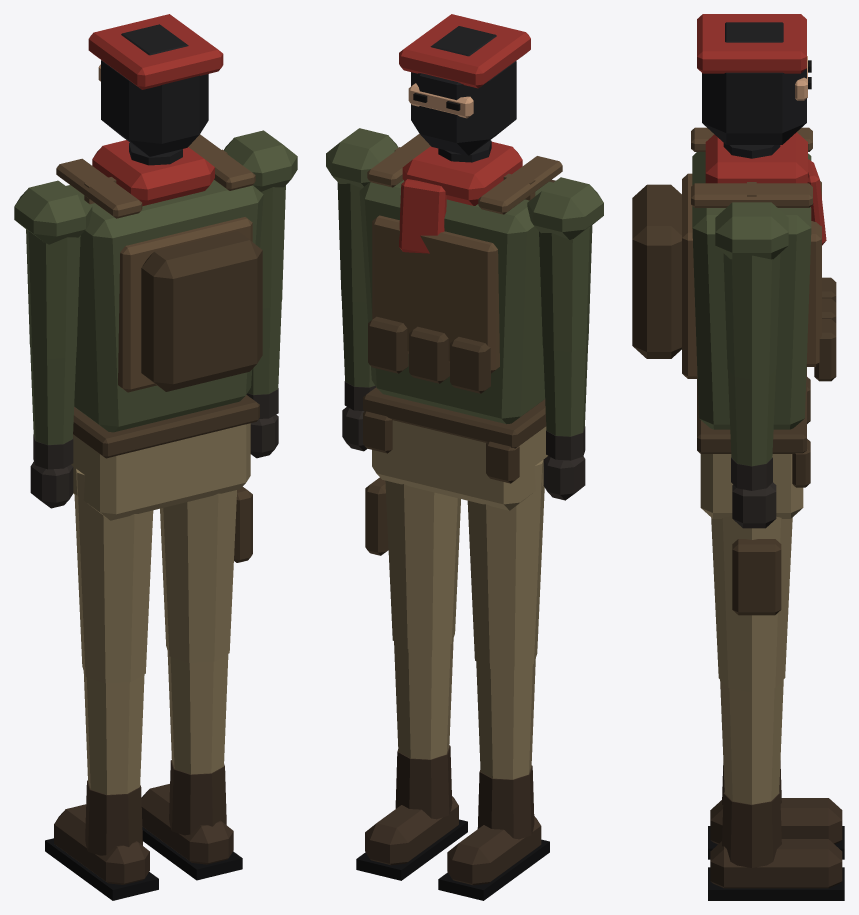
File: fighter_t.glb
The picture shows the model from 3 angles, left to right: view 1: azimuth 30°, elevation 25°; view 2: azimuth 150°, elevation 25°; view 3: azimuth 270°, elevation 25°; orthographic projection. The views are drawn at different scales.
Parts seen in each view (by area): view 1: Torso, Hips, ShinL, ShinR, Head, LegR, LegL, ArmL, ForeL, ArmR, ForeR; view 2: Torso, Hips, ShinL, ShinR, Head, LegR, LegL, ArmL, ForeL, ArmR, ForeR; view 3: Torso, ShinR, Head, LegR, ArmR, ForeR, Hips, ShinL.
Boxes of the visible parts, <box> form: Torso: <box>56,134,263,432</box>; Hips: <box>71,395,259,520</box>; ShinL: <box>45,671,158,900</box>; ShinR: <box>141,651,242,880</box>; Head: <box>88,14,223,156</box>; LegR: <box>160,486,252,662</box>; LegL: <box>74,469,153,683</box>; ArmL: <box>14,180,92,358</box>; ForeL: <box>30,348,76,508</box>; ArmR: <box>224,130,297,308</box>; ForeR: <box>246,302,281,458</box>; Torso: <box>359,134,562,424</box>; Hips: <box>363,387,547,510</box>; ShinL: <box>438,659,549,900</box>; ShinR: <box>356,639,467,880</box>; Head: <box>399,14,530,155</box>; LegR: <box>365,477,460,649</box>; LegL: <box>467,460,544,670</box>; ArmL: <box>527,177,603,352</box>; ForeL: <box>543,341,588,500</box>; ArmR: <box>326,128,398,302</box>; ForeR: <box>341,296,375,451</box>; Torso: <box>632,127,836,429</box>; ShinR: <box>708,680,844,900</box>; Head: <box>697,14,811,144</box>; LegR: <box>711,516,792,691</box>; ArmR: <box>715,202,788,379</box>; ForeR: <box>727,369,776,528</box>; Hips: <box>697,367,810,518</box>; ShinL: <box>708,760,844,859</box>.
Size of the model in its own units: 0.63 by 1.89 by 0.435.
